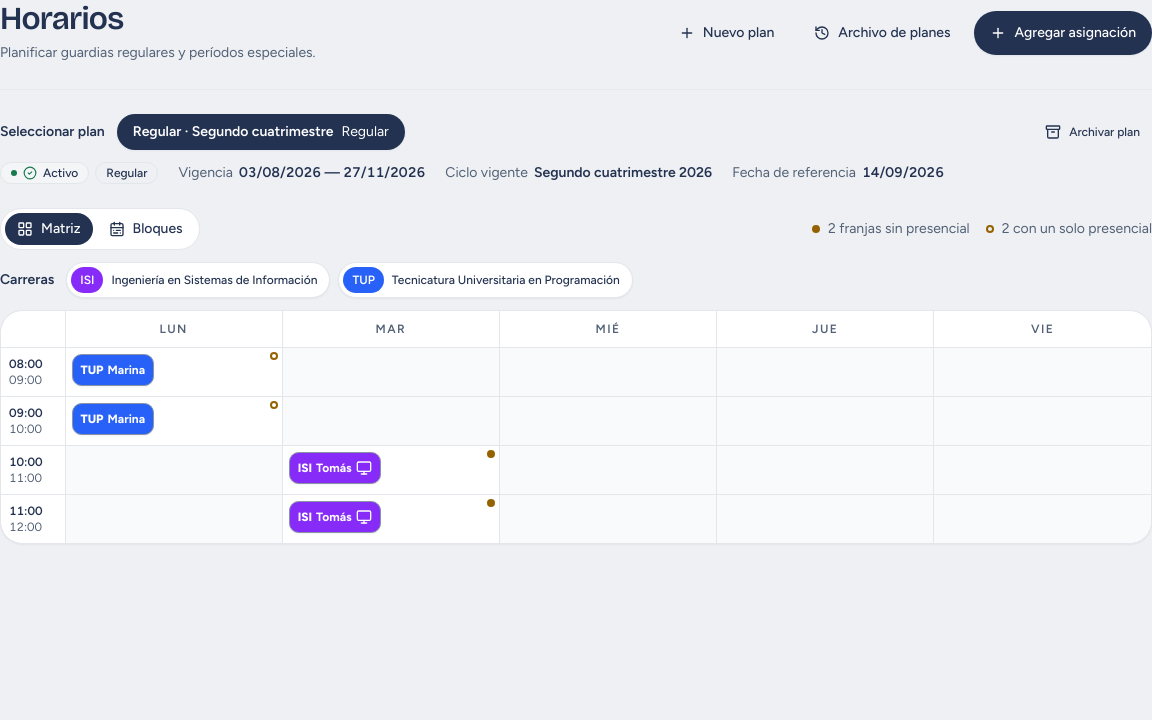
SchedulesScreen › updates an existing assignment and returns focus to its chip
Click the button named "Benítez, Marina, Tecnicatura Universitaria en Programación, lunes, 08:00 a 10:00" at (113, 370), box [72, 354, 154, 386]
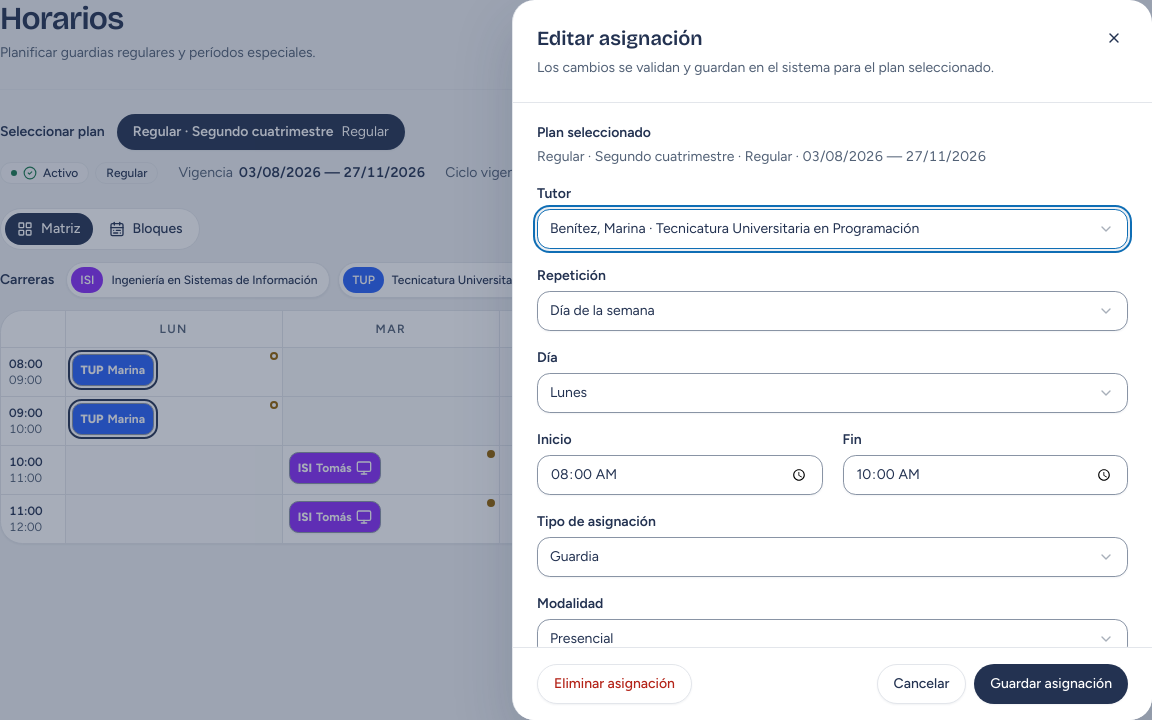
Expected: the button named "Benítez, Marina, Tecnicatura Universitaria en Programación, lunes, 08:00 a 10:00" is pressed, [72, 354, 154, 386]
Replace the text in the time field labelled "Fin" with "11:00" at (985, 475), box [842, 455, 1128, 495]
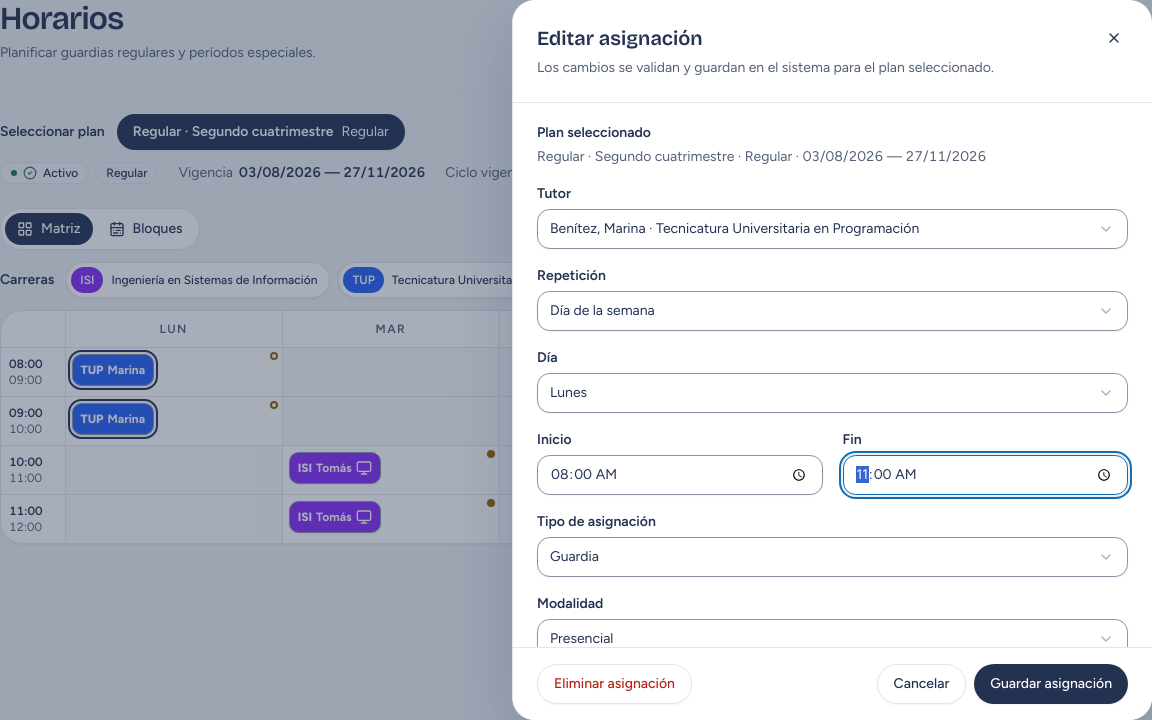
Click the button "Guardar asignación" at (1051, 684), box [974, 664, 1128, 704]
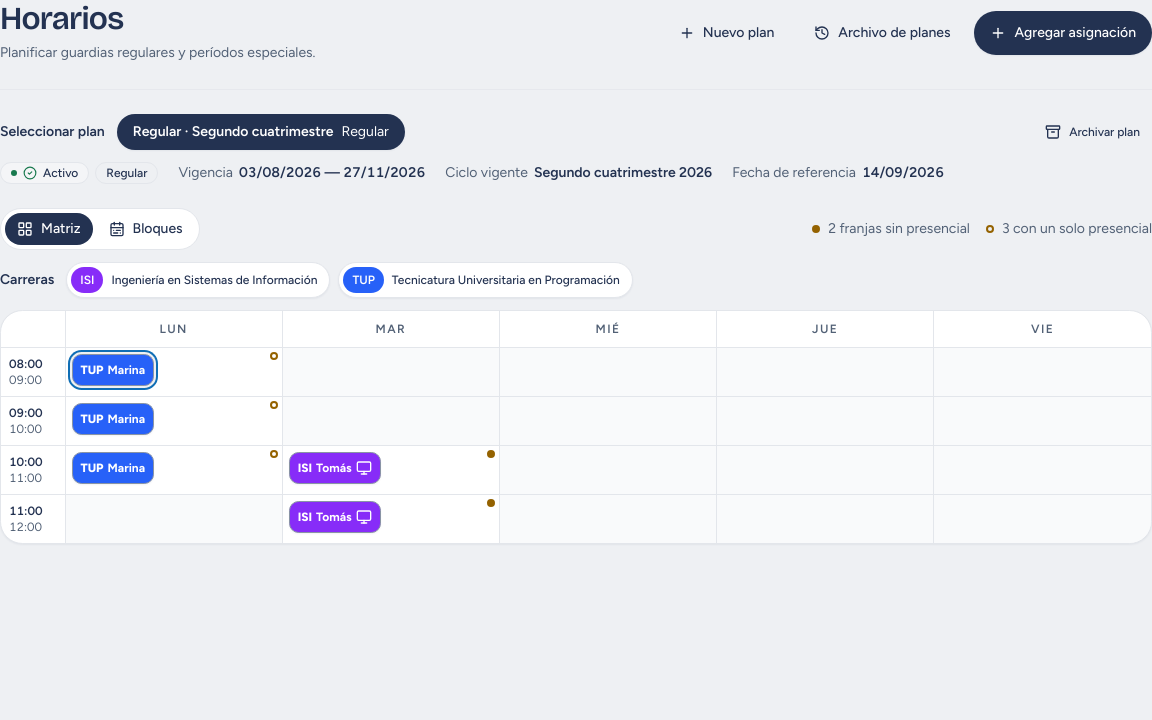
Expected: the heading "Editar asignación" is gone
